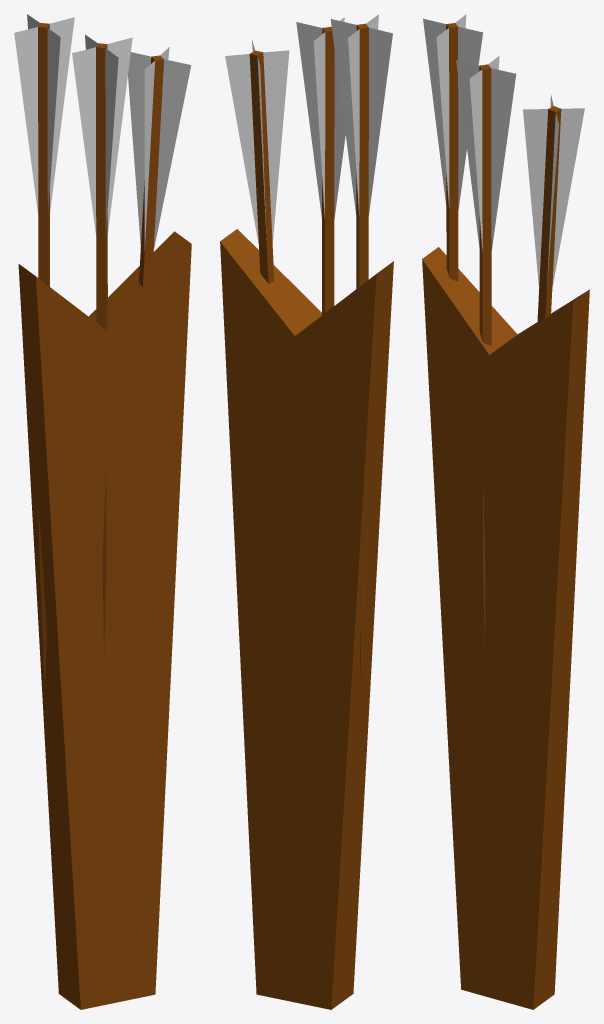
The model's file is ArcherQuiver.fbx.
3 views of the same model, side by side, from view 1: azimuth 30°, elevation 25°; view 2: azimuth 150°, elevation 25°; view 3: azimuth 330°, elevation 25° (orthographic). The views are drawn at different scales.
Visible parts, largest first — view 1: Quiver; view 2: Quiver; view 3: Quiver.
Part boxes in pixels (x1,y1,x2,y2): Quiver: (14, 14, 191, 1009); Quiver: (220, 14, 393, 1009); Quiver: (422, 14, 589, 1009).
Size of the model in its own units: 118 by 668 by 54.38.
